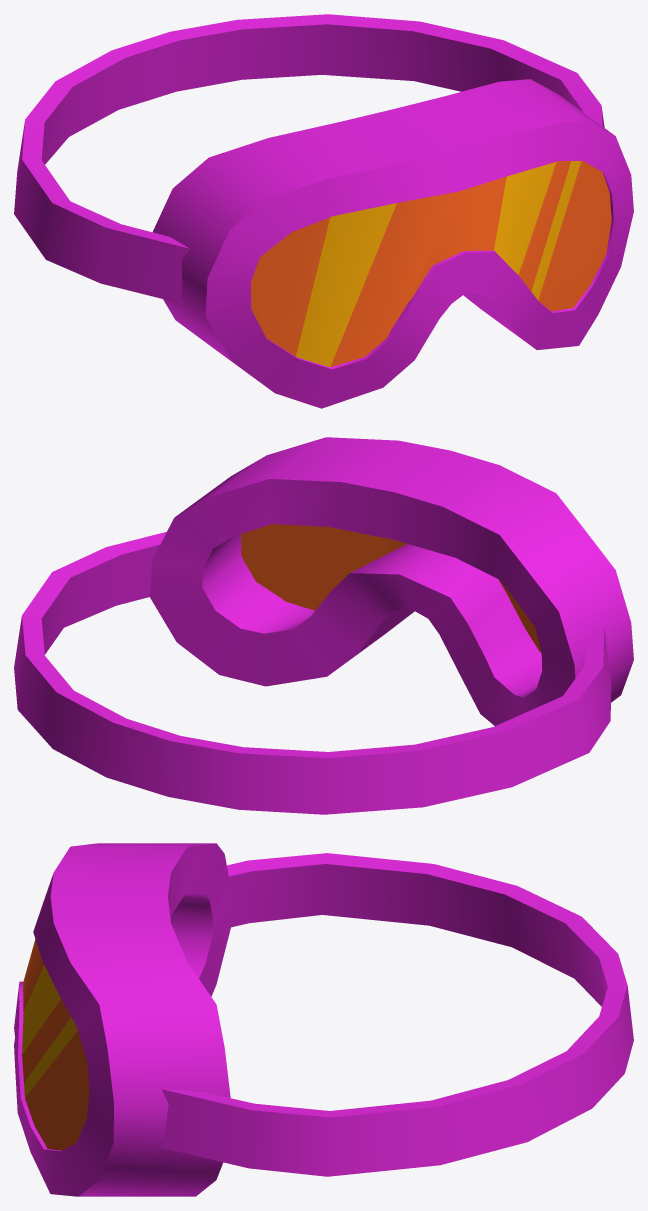
The model's file is Snowboarding_glasses.fbx.
3 renders of one model, top to bottom at view 1: azimuth 30°, elevation 25°; view 2: azimuth 150°, elevation 25°; view 3: azimuth 270°, elevation 25°, orthographic. The views are drawn at different scales.
Parts seen in each view (by area): view 1: Snowboarding_glasses.c, Snowboarding_glasses; view 2: Snowboarding_glasses.c, Snowboarding_glasses; view 3: Snowboarding_glasses.c, Snowboarding_glasses.
Part boxes in pixels (x1=…): Snowboarding_glasses.c: x1=153, y1=79, x2=633, y2=408; Snowboarding_glasses: x1=14, y1=14, x2=604, y2=304; Snowboarding_glasses.c: x1=150, y1=437, x2=633, y2=725; Snowboarding_glasses: x1=14, y1=532, x2=611, y2=814; Snowboarding_glasses.c: x1=14, y1=843, x2=231, y2=1196; Snowboarding_glasses: x1=158, y1=853, x2=633, y2=1176.
Size of the model in its own units: 0.7102 by 0.2827 by 0.6822.
